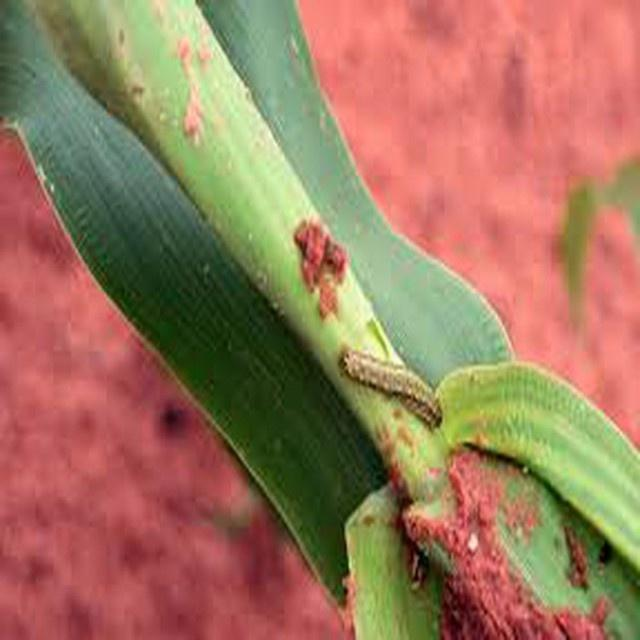gusano_cogollero: (332, 346, 446, 434)
